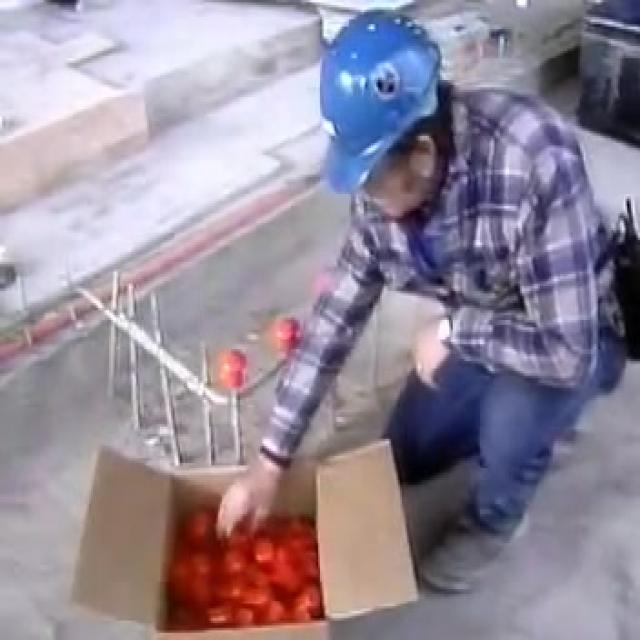Safety-Helmet: (295, 5, 467, 199)
